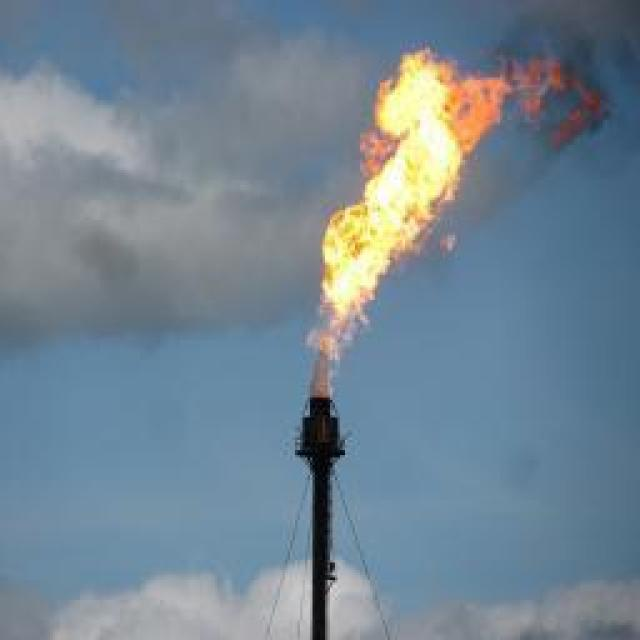fire: (305, 47, 515, 388), (511, 58, 604, 145), (440, 233, 454, 251)
smoke: (495, 0, 640, 136)
